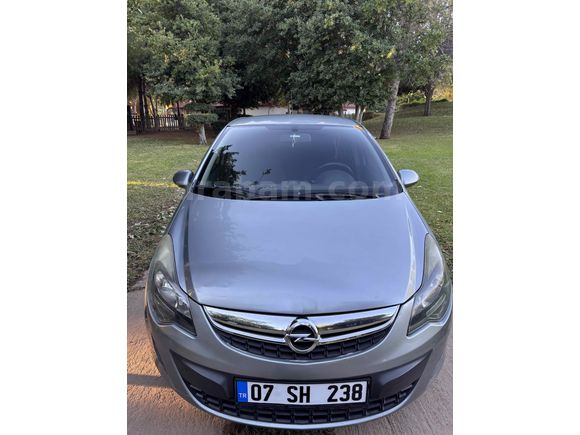plate: (233, 379, 368, 412)
